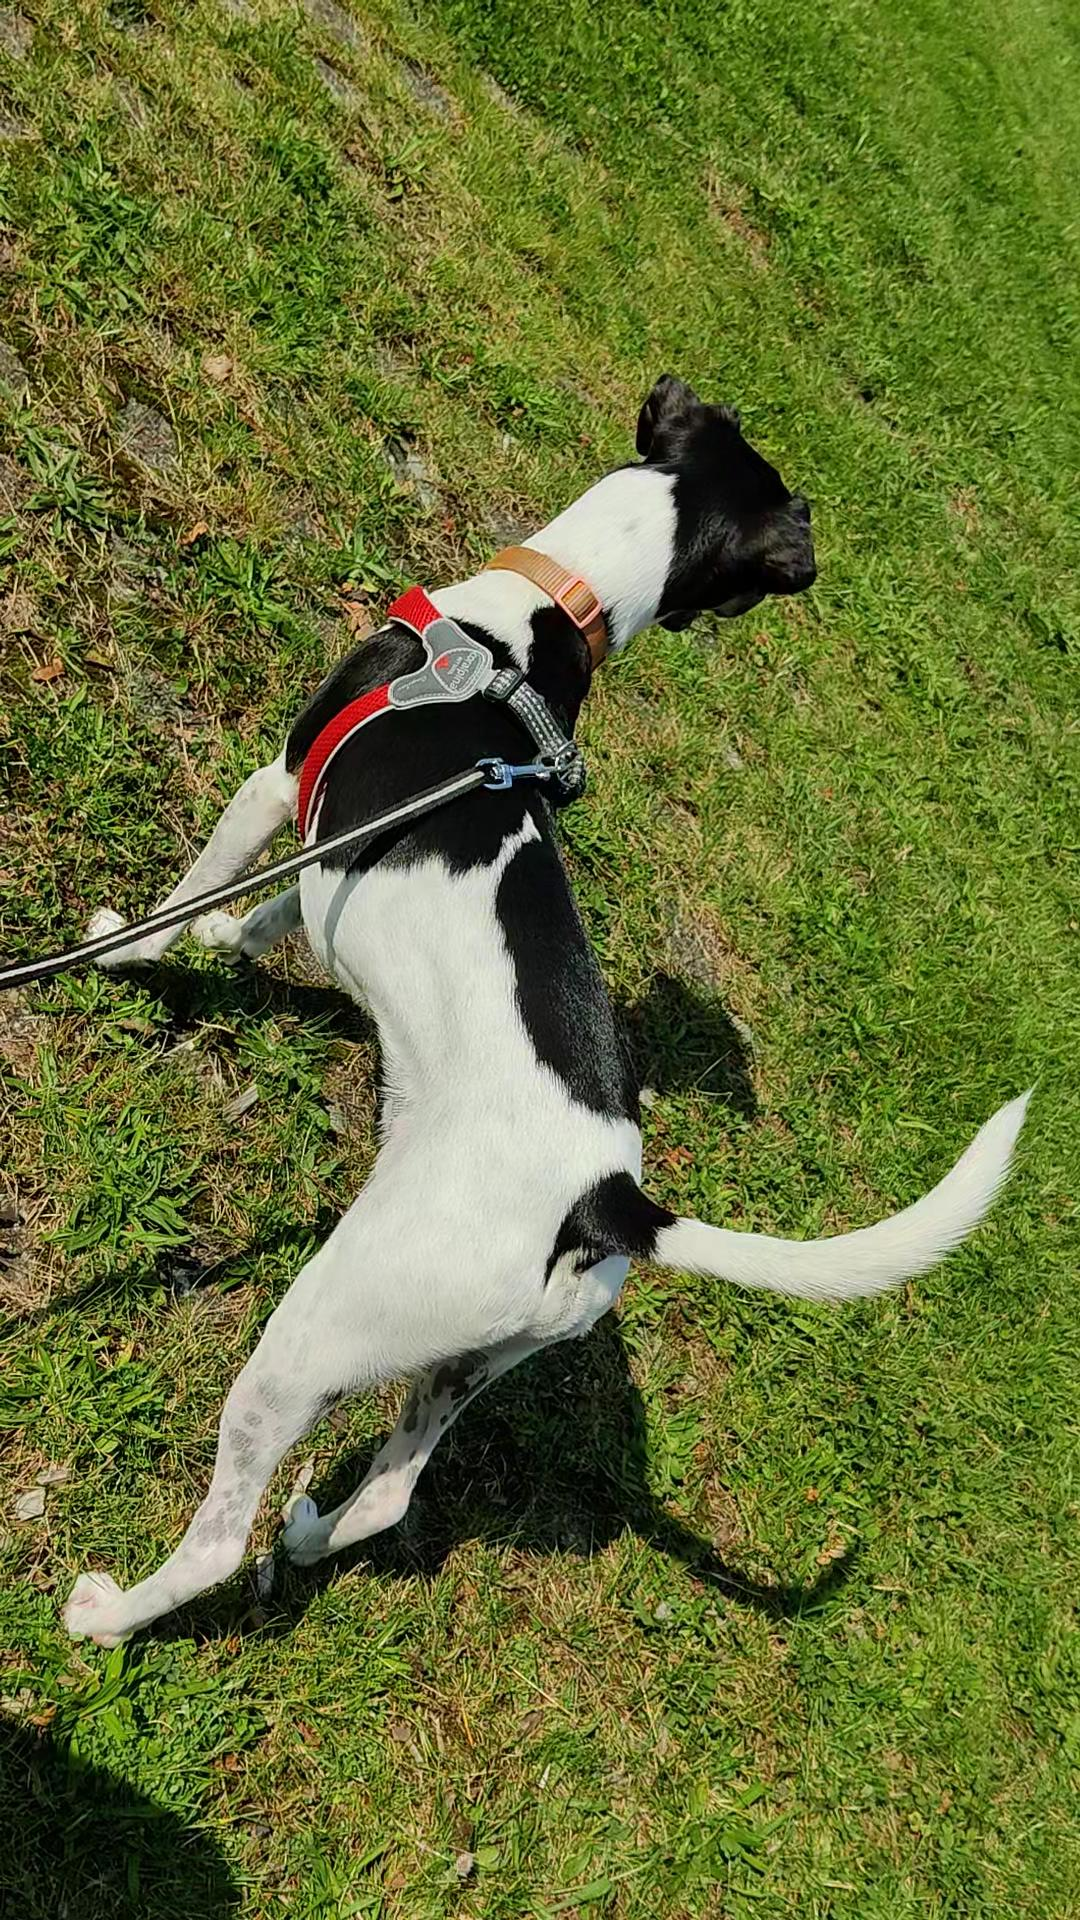Dog: (50, 367, 1040, 1654)
